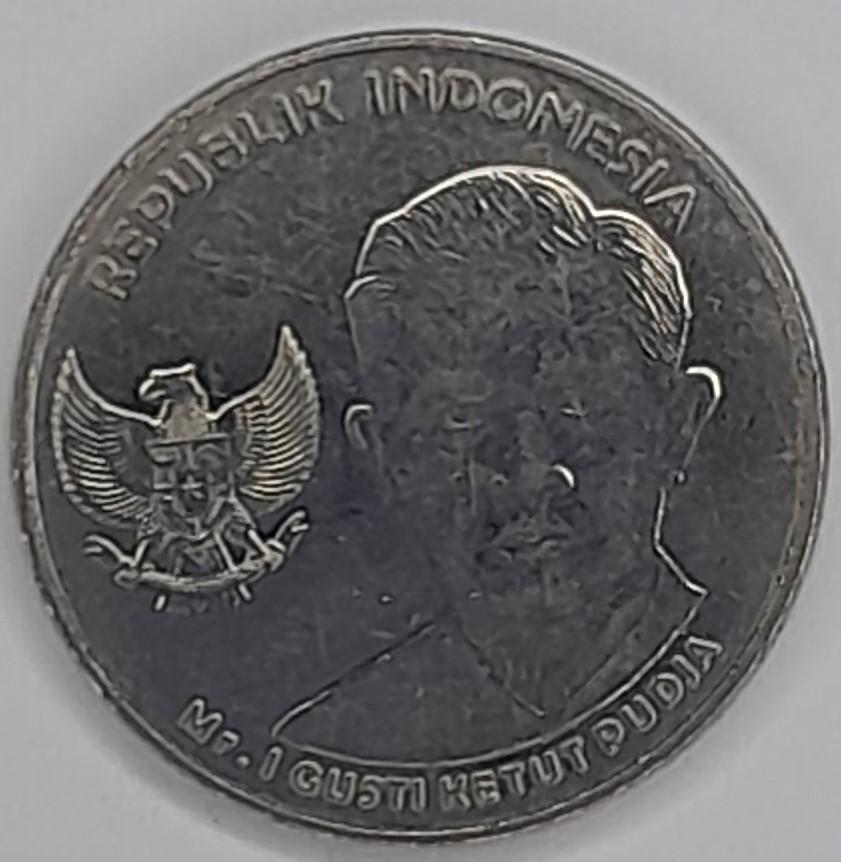coin_1000_e2016: (14, 17, 830, 862)
